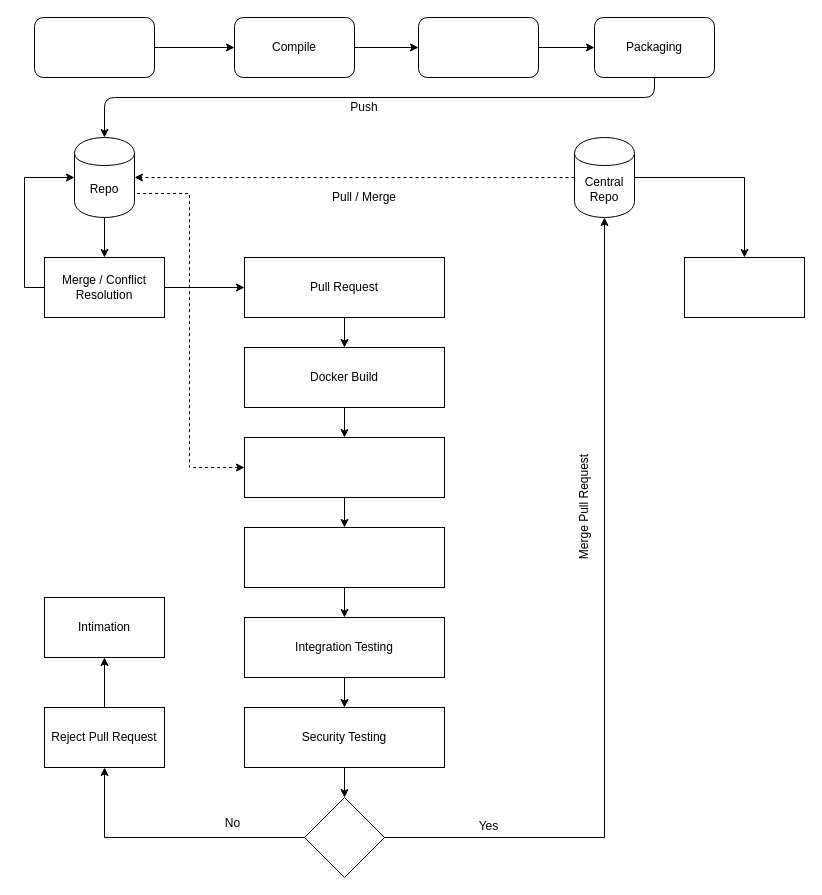
This 822x895 diagram has some shape labels left out. The centre of each missing label's shape, as x and y in pixels:
"Call Deployment Hook" belongs at point (744, 287).
"Data File Loading" belongs at point (344, 557).
"Dependency Resolution" belongs at point (94, 47).
"Documentation Generation" belongs at point (478, 47).
"Installation" belongs at point (344, 467).
"Passed?" belongs at point (344, 837).
